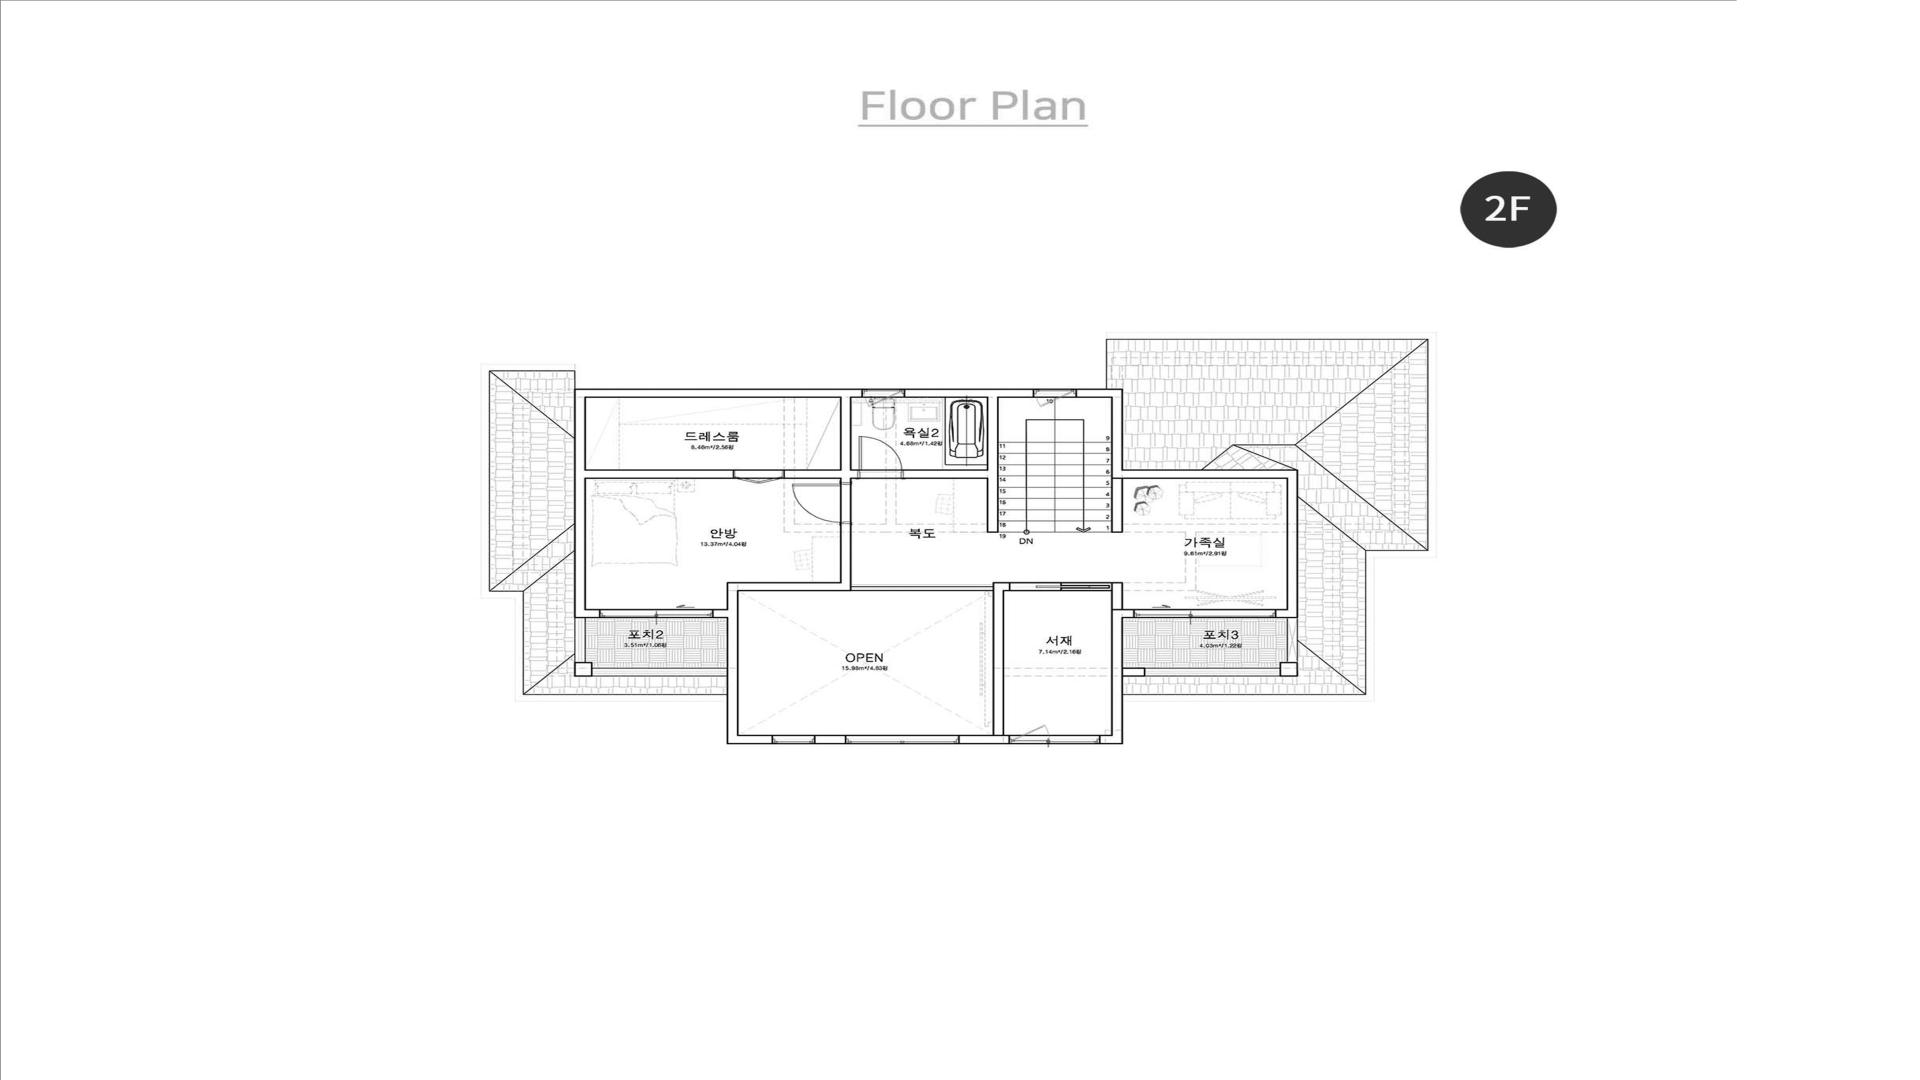door: (792, 482, 852, 524), (857, 436, 904, 478), (1009, 582, 1111, 591), (733, 469, 785, 484)
wall: (727, 524, 852, 609), (714, 609, 772, 744), (574, 398, 599, 618), (1100, 609, 1134, 744), (1077, 388, 1123, 479), (1276, 479, 1298, 618), (574, 388, 862, 398), (992, 582, 1009, 735), (1123, 469, 1298, 479), (987, 398, 999, 533), (586, 469, 733, 479), (905, 389, 1033, 398), (840, 398, 852, 482), (904, 469, 987, 479), (851, 586, 993, 591), (1111, 479, 1123, 533), (785, 469, 840, 479), (960, 735, 1009, 744), (1111, 582, 1124, 609), (816, 735, 845, 744), (851, 469, 857, 478)
window: (1134, 609, 1277, 618), (845, 735, 960, 744), (599, 609, 714, 618), (1033, 388, 1077, 407), (1009, 735, 1100, 744), (862, 388, 905, 407), (772, 735, 816, 744)
